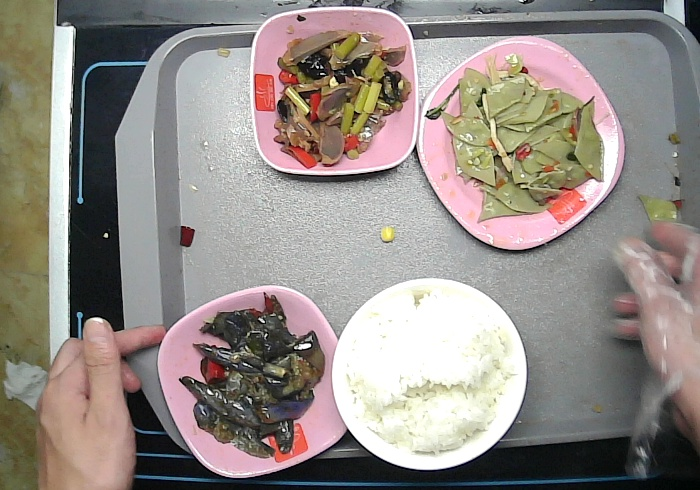SHKJ-Fan_Wan: (331, 275, 528, 470)
SHKJ-Fen_Se_Cai_Die: (156, 284, 351, 478)
SHKJ-Fen_Se_Si_Fang_Cai_Die: (414, 36, 626, 252)
SHKJ-Fen_Se_Xiao_Fang_Die: (249, 7, 419, 177)
